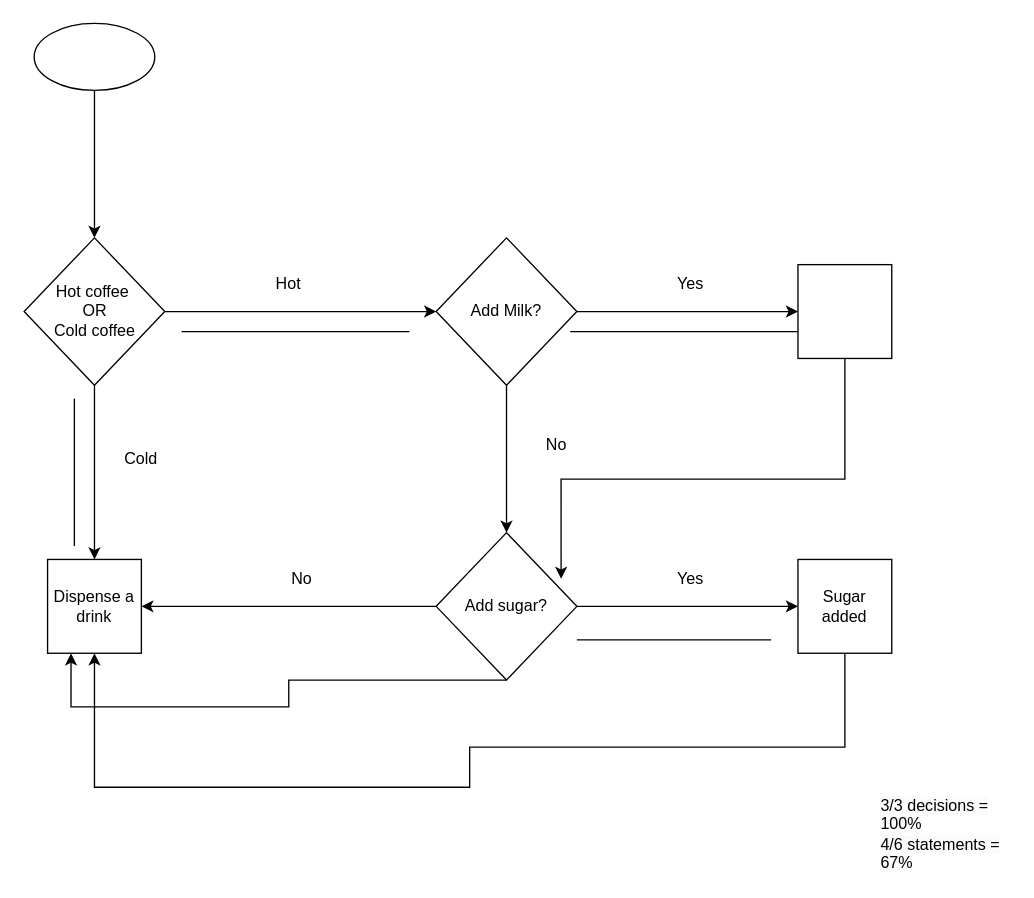
This 1034x898 diagram has some shape labels left out. Each missing label, with the centre of its shape:
Milk added: the point at 844,310
Start: the point at 94,56
